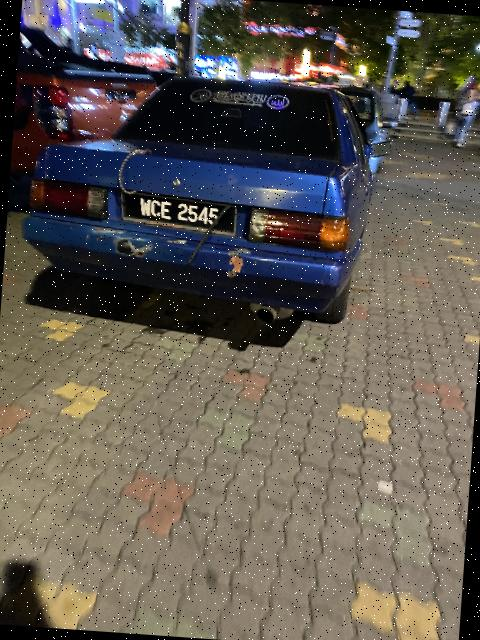License_Plate: (116, 190, 239, 242)
car: (16, 55, 383, 342)
